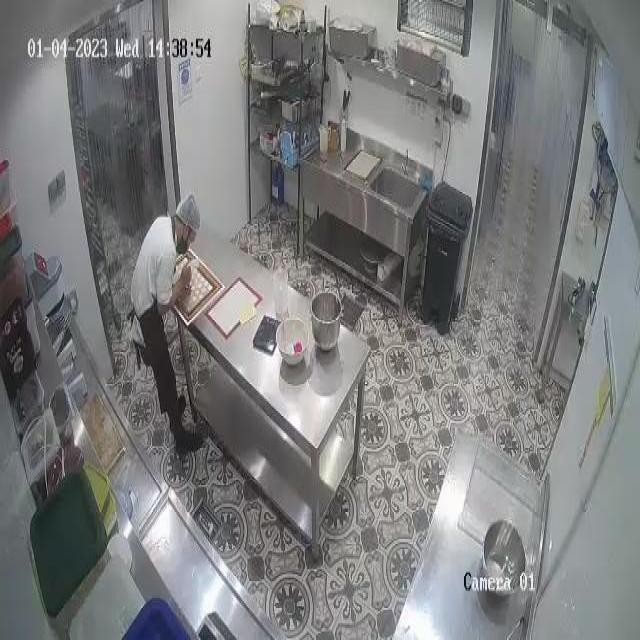hairnet: (181, 194, 199, 233)
